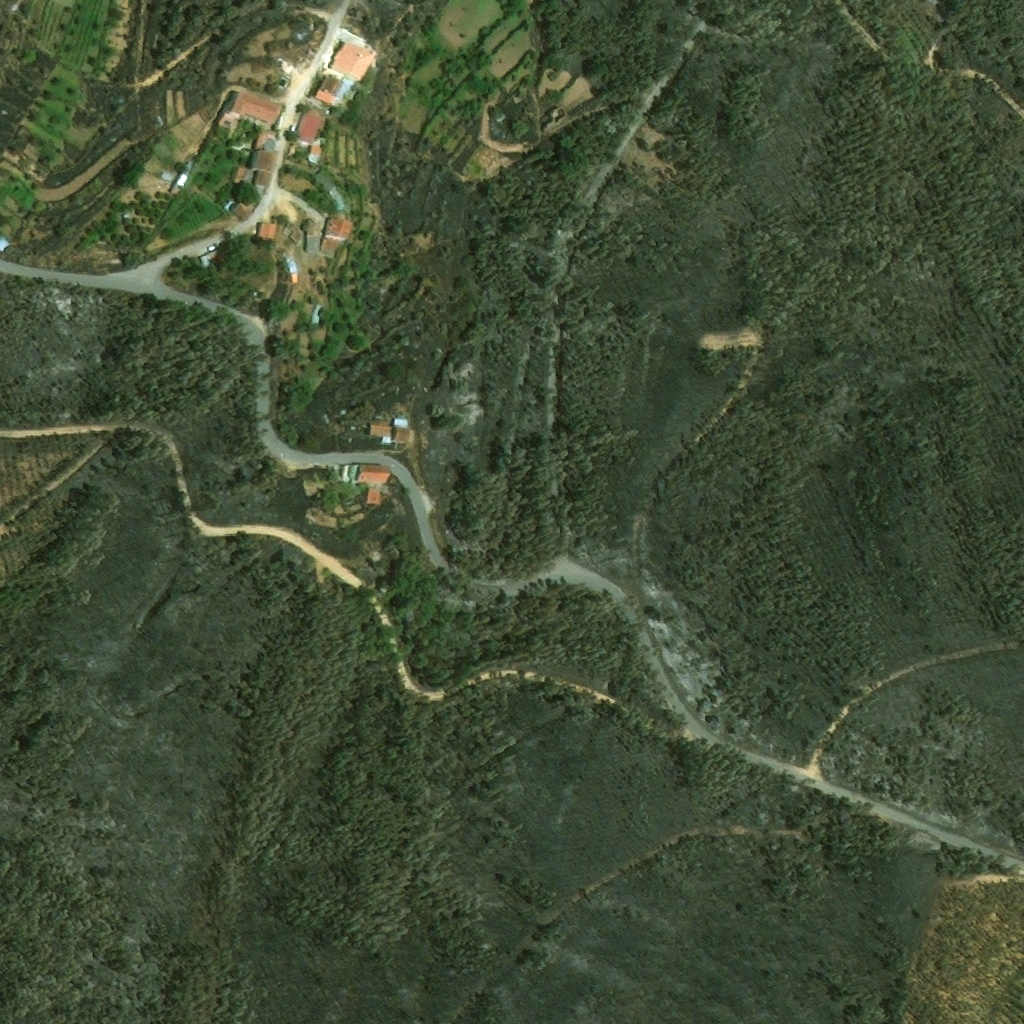0 no-damage: (326, 40, 373, 82), (228, 91, 281, 124), (245, 132, 277, 186), (318, 216, 352, 257), (313, 172, 344, 212), (368, 415, 406, 445), (293, 110, 320, 143), (313, 75, 337, 101), (304, 220, 319, 251), (167, 173, 186, 197), (230, 201, 251, 222), (255, 219, 275, 240), (283, 256, 298, 283), (229, 166, 244, 187), (306, 304, 320, 326), (196, 253, 214, 270), (306, 145, 320, 161), (158, 172, 172, 183), (0, 236, 6, 252)
2 major-damage: (337, 465, 387, 506)
